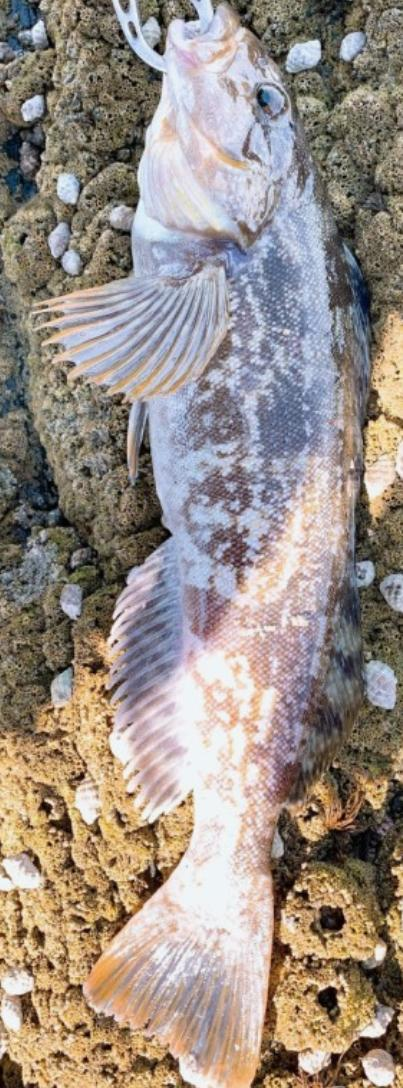fish: (49, 4, 369, 1087)
